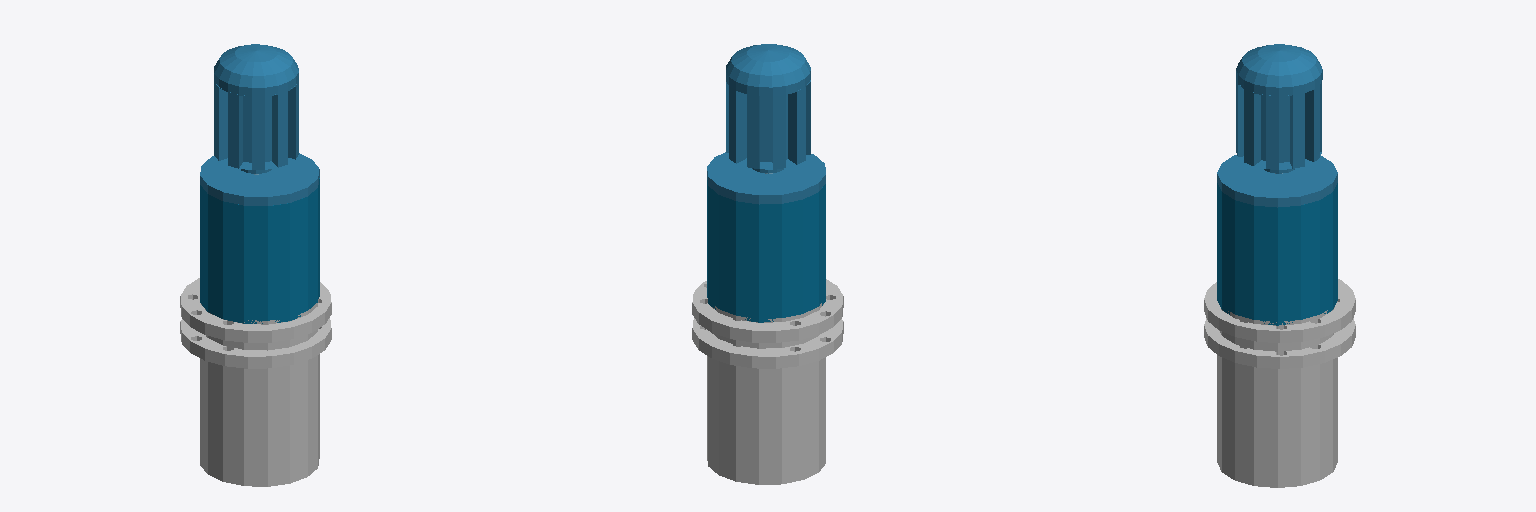
The model's file is flocculant_solution_machine.obj.
3 renders of one model, left to right at view 1: azimuth 30°, elevation 25°; view 2: azimuth 150°, elevation 25°; view 3: azimuth 270°, elevation 25°, orthographic.
Visible parts, largest first — view 1: __, __.1, __.4, __.2; view 2: __, __.1, __.4, __.2; view 3: __, __.1, __.4, __.2.
Boxes of the visible parts, x1,y1,x2,y2 form: __: [180, 44, 331, 368]; __.1: [188, 294, 321, 486]; __.4: [214, 81, 298, 169]; __.2: [200, 153, 319, 205]; __: [692, 44, 843, 368]; __.1: [700, 284, 835, 484]; __.4: [726, 80, 810, 169]; __.2: [707, 152, 825, 204]; __: [1204, 44, 1355, 368]; __.1: [1217, 299, 1339, 487]; __.4: [1236, 79, 1321, 169]; __.2: [1217, 155, 1337, 207].
Size of the model in its own units: 140 by 416 by 140.